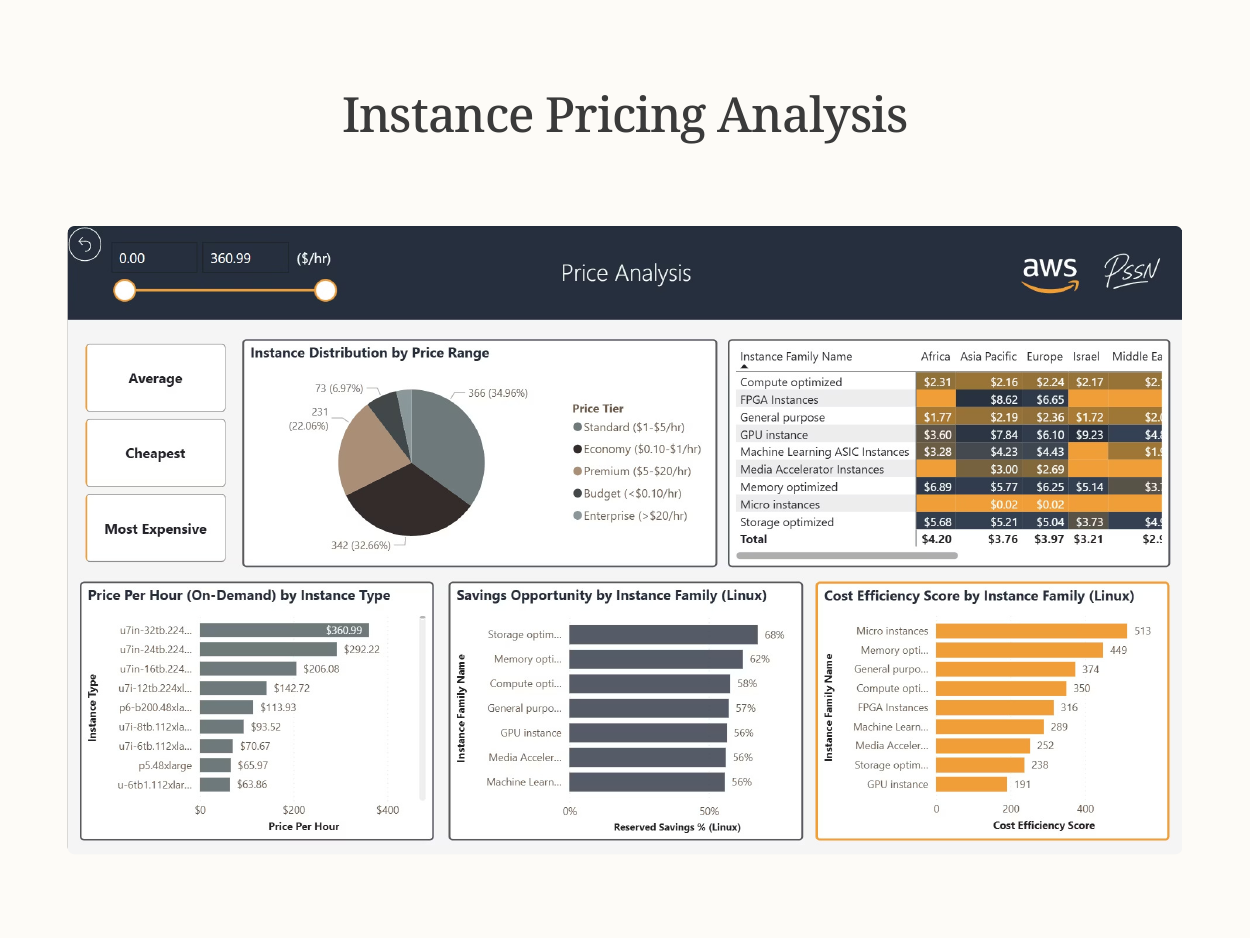

What the dashboard file says about the page in this screenshot:
{"tool":"powerbi","page":{"name":"Instance Pricing Analysis","canvas":[1280,720],"ordinal":1},"visuals":[{"type":"shape","box":[0,0,1280.4,107.7],"z":0},{"type":"textbox","box":[488.8,29.2,301.7,46.3],"z":1000},{"type":"image","box":[1069,16,113.3,76.4],"z":2000},{"type":"image","box":[1166.3,0,104.7,107.1],"z":3000},{"type":"clusteredBarChart","title":"Savings Opportunity by Instance Family (Linux)","fields":{"Category":["Dim_InstanceFamily.instanceFamilyName"],"Y":["Fact_Pricing.Reserved Savings % (Linux)"]},"box":[436.5,407.3,406.3,296.7],"z":4000},{"type":"clusteredBarChart","title":"Cost Efficiency Score by Instance Family (Linux)","fields":{"Category":["Dim_InstanceFamily.instanceFamilyName"],"Y":["Dim_InstanceType.Cost Efficiency Score"]},"box":[856.9,407.3,405.2,296.8],"z":5000},{"type":"pivotTable","fields":{"Rows":["Dim_InstanceFamily.instanceFamilyName"],"Columns":["Dim_Region.locationContinent"],"Values":["Fact_Pricing.Avg Linux Price Per Hour (On-Demand)"]},"box":[756,130.1,506.4,261.4],"z":6000},{"type":"advancedSlicerVisual","title":"EC2 Instance Types (Linux On-Demand)","fields":{"Values":["ChartSelector.ChartType"]},"box":[15.2,130.1,171.1,261.4],"z":7000},{"type":"clusteredBarChart","title":"Price Per Hour (On-Demand) by Instance Type","fields":{"Category":["Dim_InstanceType.instanceType"],"Y":["Fact_Pricing.Avg Linux Price Per Hour (On-Demand)"]},"box":[14.1,407.3,405.3,296.7],"z":8000},{"type":"slicer","title":"($/hr)","fields":{"Values":["Fact_Pricing.onDemandLinuxHr"]},"box":[37.3,9.4,279.6,83.5],"z":9000},{"type":"textbox","box":[257.7,20.3,69.2,35.2],"z":10000},{"type":"actionButton","box":[1.2,2.3,37.5,38.7],"z":11000},{"type":"pieChart","title":"Instance Distribution by Price Range","fields":{"Y":["Dim_InstanceType.Total Instance Types"],"Category":["Dim_InstanceType.Price Tier"]},"box":[200.4,130.1,543.9,261.4],"z":12000}]}

Visuals, with their boxes on the page's 1280x720 design canvas (x1, y1, x2, y2). These are canvas units, not pixel positions in the 1250x938 screenshot, which may show the page scaled, cropped or inside an application window:
shape: Rect(0, 0, 1280, 108)
textbox: Rect(489, 29, 790, 76)
image: Rect(1069, 16, 1182, 92)
image: Rect(1166, 0, 1271, 107)
"Savings Opportunity by Instance Family (Linux)" clusteredBarChart: Rect(436, 407, 843, 704)
"Cost Efficiency Score by Instance Family (Linux)" clusteredBarChart: Rect(857, 407, 1262, 704)
pivotTable - Dim_InstanceFamily.instanceFamilyName x Dim_Region.locationContinent: Rect(756, 130, 1262, 392)
"EC2 Instance Types (Linux On-Demand)" advancedSlicerVisual: Rect(15, 130, 186, 392)
"Price Per Hour (On-Demand) by Instance Type" clusteredBarChart: Rect(14, 407, 419, 704)
"($/hr)" slicer: Rect(37, 9, 317, 93)
textbox: Rect(258, 20, 327, 56)
actionButton: Rect(1, 2, 39, 41)
"Instance Distribution by Price Range" pieChart: Rect(200, 130, 744, 392)
